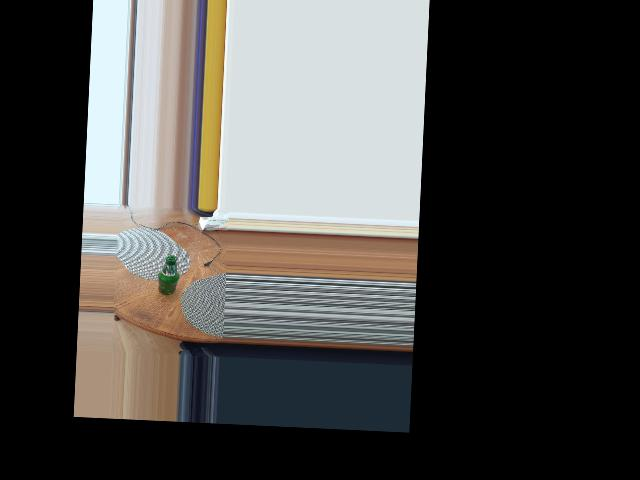beer: (157, 254, 179, 295)
